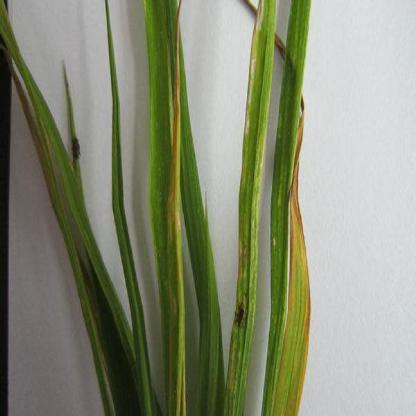rice-bug: (235, 298, 246, 326), (70, 136, 82, 161)
